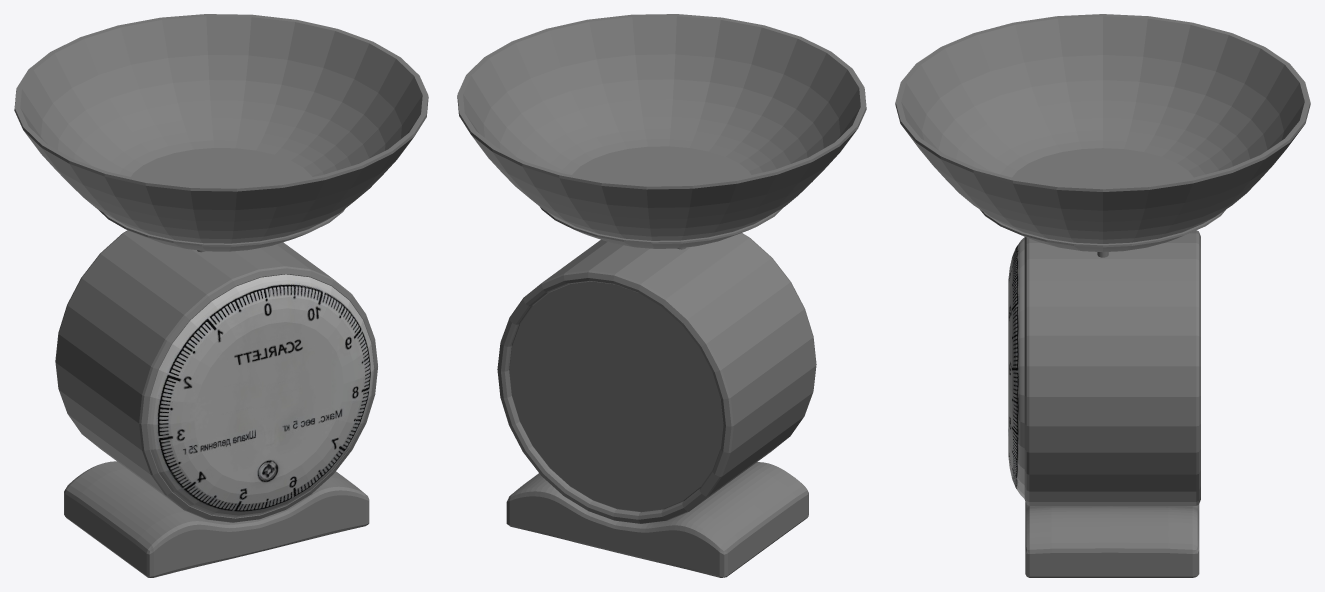
The model's file is kitchen-scale-1.obj.
3 views of the same model, side by side, from view 1: azimuth 30°, elevation 25°; view 2: azimuth 150°, elevation 25°; view 3: azimuth 270°, elevation 25° (orthographic).
Parts seen in each view (by area): view 1: Small_kitchen_appliances_100; view 2: Small_kitchen_appliances_100; view 3: Small_kitchen_appliances_100.
Part boxes in pixels (<box>): Small_kitchen_appliances_100: <box>14,14,428,577</box>; Small_kitchen_appliances_100: <box>457,14,866,577</box>; Small_kitchen_appliances_100: <box>895,14,1310,577</box>.
Bounding box in the file's own units: 17.12 × 19.26 × 17.12.
Materials: 2 (1 with a texture image).
